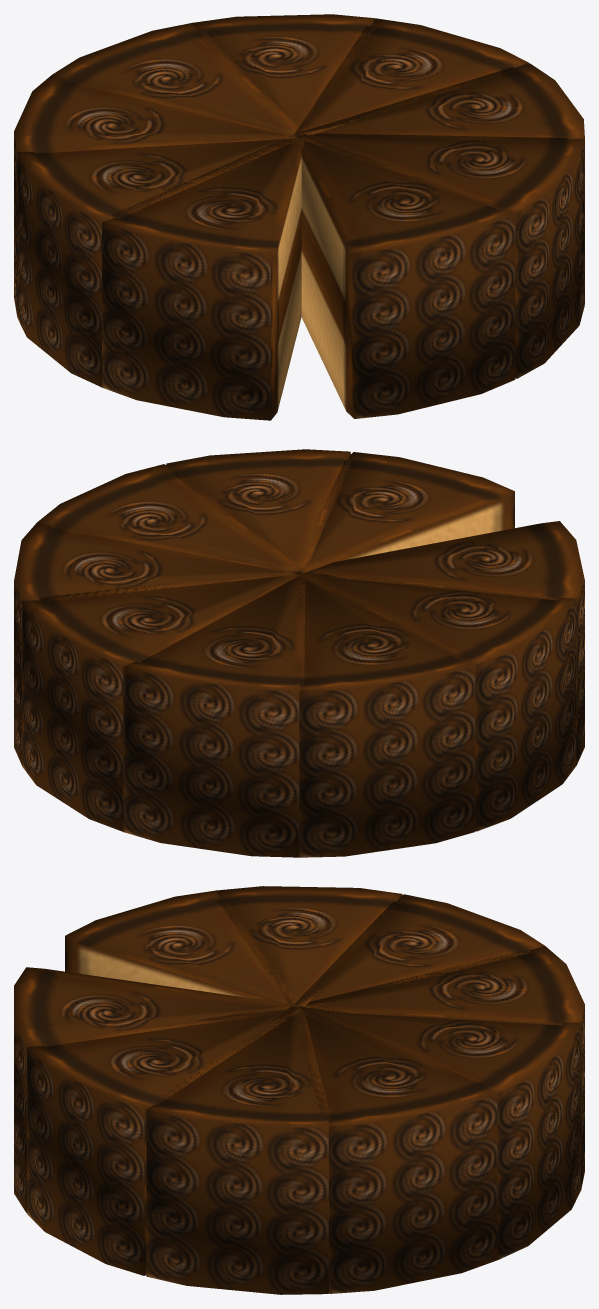
The model's file is chocolate_cake.glb.
3 renders of one model, top to bottom at view 1: azimuth 30°, elevation 25°; view 2: azimuth 150°, elevation 25°; view 3: azimuth 270°, elevation 25°, orthographic.
Parts seen in each view (by area): view 1: cake_slice1, cake_slice9, cake_slice8, cake_slice2, cake_slice6, cake_slice7, cake_slice4, cake_slice3, cake_slice5; view 2: cake_slice6, cake_slice7, cake_slice5, cake_slice8, cake_slice1, cake_slice9, cake_slice4, cake_slice3, cake_slice2; view 3: cake_slice3, cake_slice4, cake_slice2, cake_slice5, cake_slice9, cake_slice1, cake_slice6, cake_slice7, cake_slice8.
Part boxes in pixels (bbox=[...]): cake_slice1: bbox=[295, 134, 515, 418]; cake_slice9: bbox=[102, 134, 305, 420]; cake_slice8: bbox=[17, 134, 298, 387]; cake_slice2: bbox=[297, 133, 584, 378]; cake_slice6: bbox=[53, 23, 298, 137]; cake_slice7: bbox=[14, 74, 297, 317]; cake_slice4: bbox=[294, 18, 528, 136]; cake_slice3: bbox=[297, 63, 584, 304]; cake_slice5: bbox=[191, 14, 375, 126]; cake_slice6: bbox=[123, 576, 305, 857]; cake_slice7: bbox=[293, 571, 475, 857]; cake_slice5: bbox=[22, 570, 298, 832]; cake_slice8: bbox=[295, 570, 576, 831]; cake_slice1: bbox=[300, 452, 514, 572]; cake_slice9: bbox=[309, 521, 584, 765]; cake_slice4: bbox=[14, 522, 295, 765]; cake_slice3: bbox=[38, 464, 303, 572]; cake_slice2: bbox=[166, 449, 351, 571]; cake_slice3: bbox=[146, 1006, 331, 1294]; cake_slice4: bbox=[298, 1006, 497, 1293]; cake_slice2: bbox=[27, 1008, 301, 1275]; cake_slice5: bbox=[299, 1006, 580, 1259]; cake_slice9: bbox=[65, 890, 301, 1005]; cake_slice1: bbox=[14, 967, 298, 1213]; cake_slice6: bbox=[304, 946, 584, 1190]; cake_slice7: bbox=[292, 894, 544, 1008]; cake_slice8: bbox=[216, 886, 402, 1006].
Size of the model in its own units: 0.8953 by 0.2886 by 0.894.
1 material, 1 textured.
